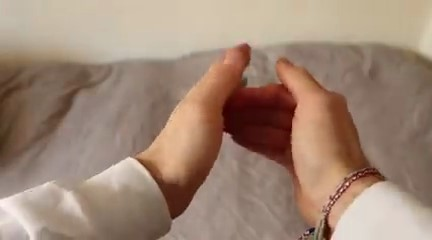Z: (140, 37, 388, 229)
